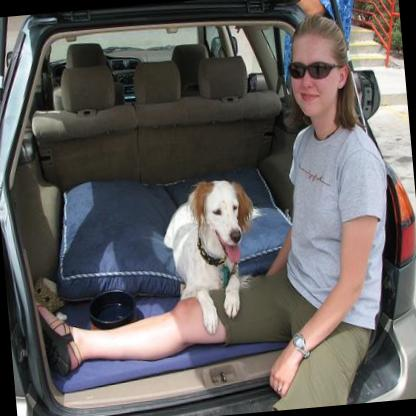English_setter: (160, 178, 262, 338)
